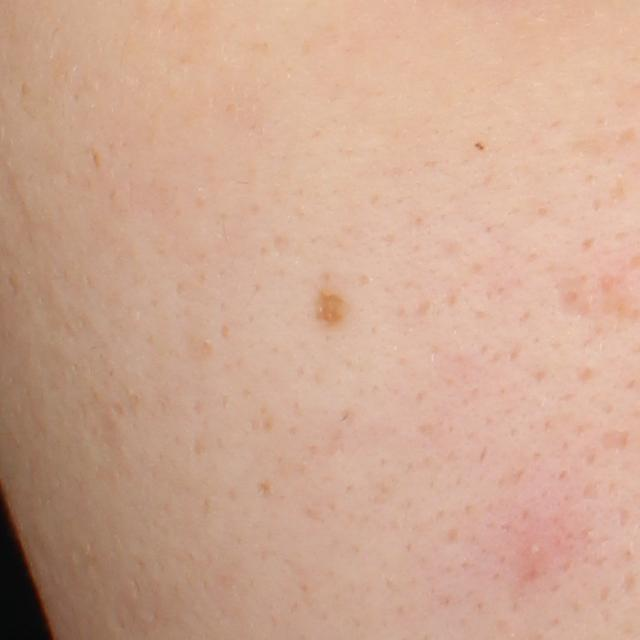nevus: (311, 288, 350, 334)
